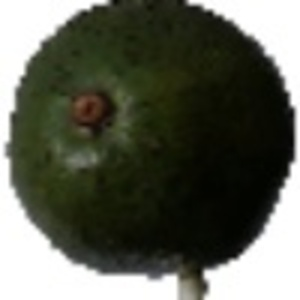abacate: (3, 4, 295, 274)
